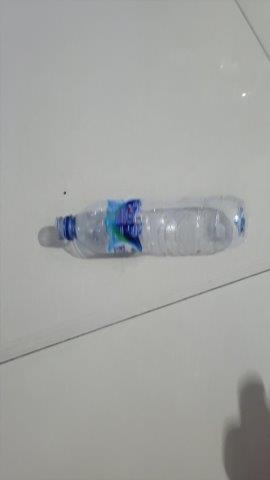botolplastik: (45, 195, 247, 259)
